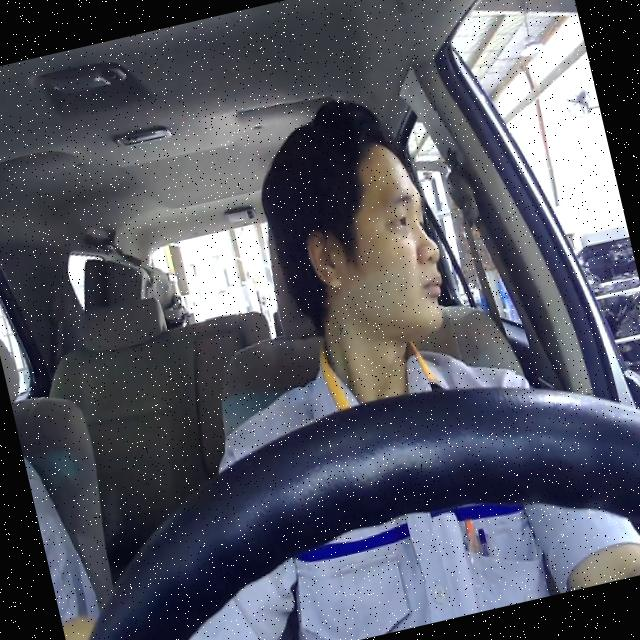seeing_right: (283, 128, 457, 356)
